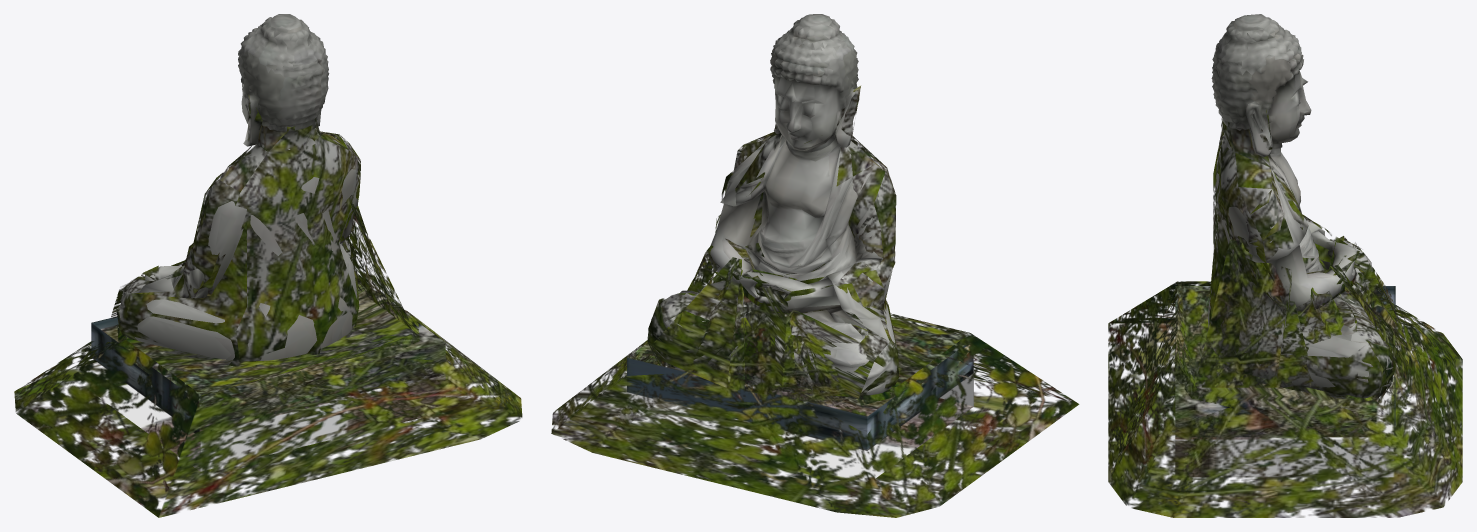
File: overgrown-grove.glb
The picture shows the model from 3 angles, left to right: view 1: azimuth 30°, elevation 25°; view 2: azimuth 150°, elevation 25°; view 3: azimuth 270°, elevation 25°; orthographic projection. The views are drawn at different scales.
Visible parts, largest first — view 1: Cube001, node_0005, Cube; view 2: Cube001, node_0005, Cube; view 3: Cube001, node_0005, Cube.
Part boxes in pixels (left/top/right/bottom): Cube001: left=14, top=94, right=522, bottom=517; node_0005: left=118, top=14, right=358, bottom=366; Cube: left=91, top=282, right=445, bottom=471; Cube001: left=551, top=86, right=1079, bottom=517; node_0005: left=651, top=14, right=897, bottom=403; Cube: left=627, top=320, right=973, bottom=481; Cube001: left=1108, top=110, right=1462, bottom=517; node_0005: left=1208, top=14, right=1393, bottom=399; Cube: left=1175, top=286, right=1395, bottom=477.
Size of the model in its own units: 12.46 by 12 by 9.58.
3 materials, 3 textured.
